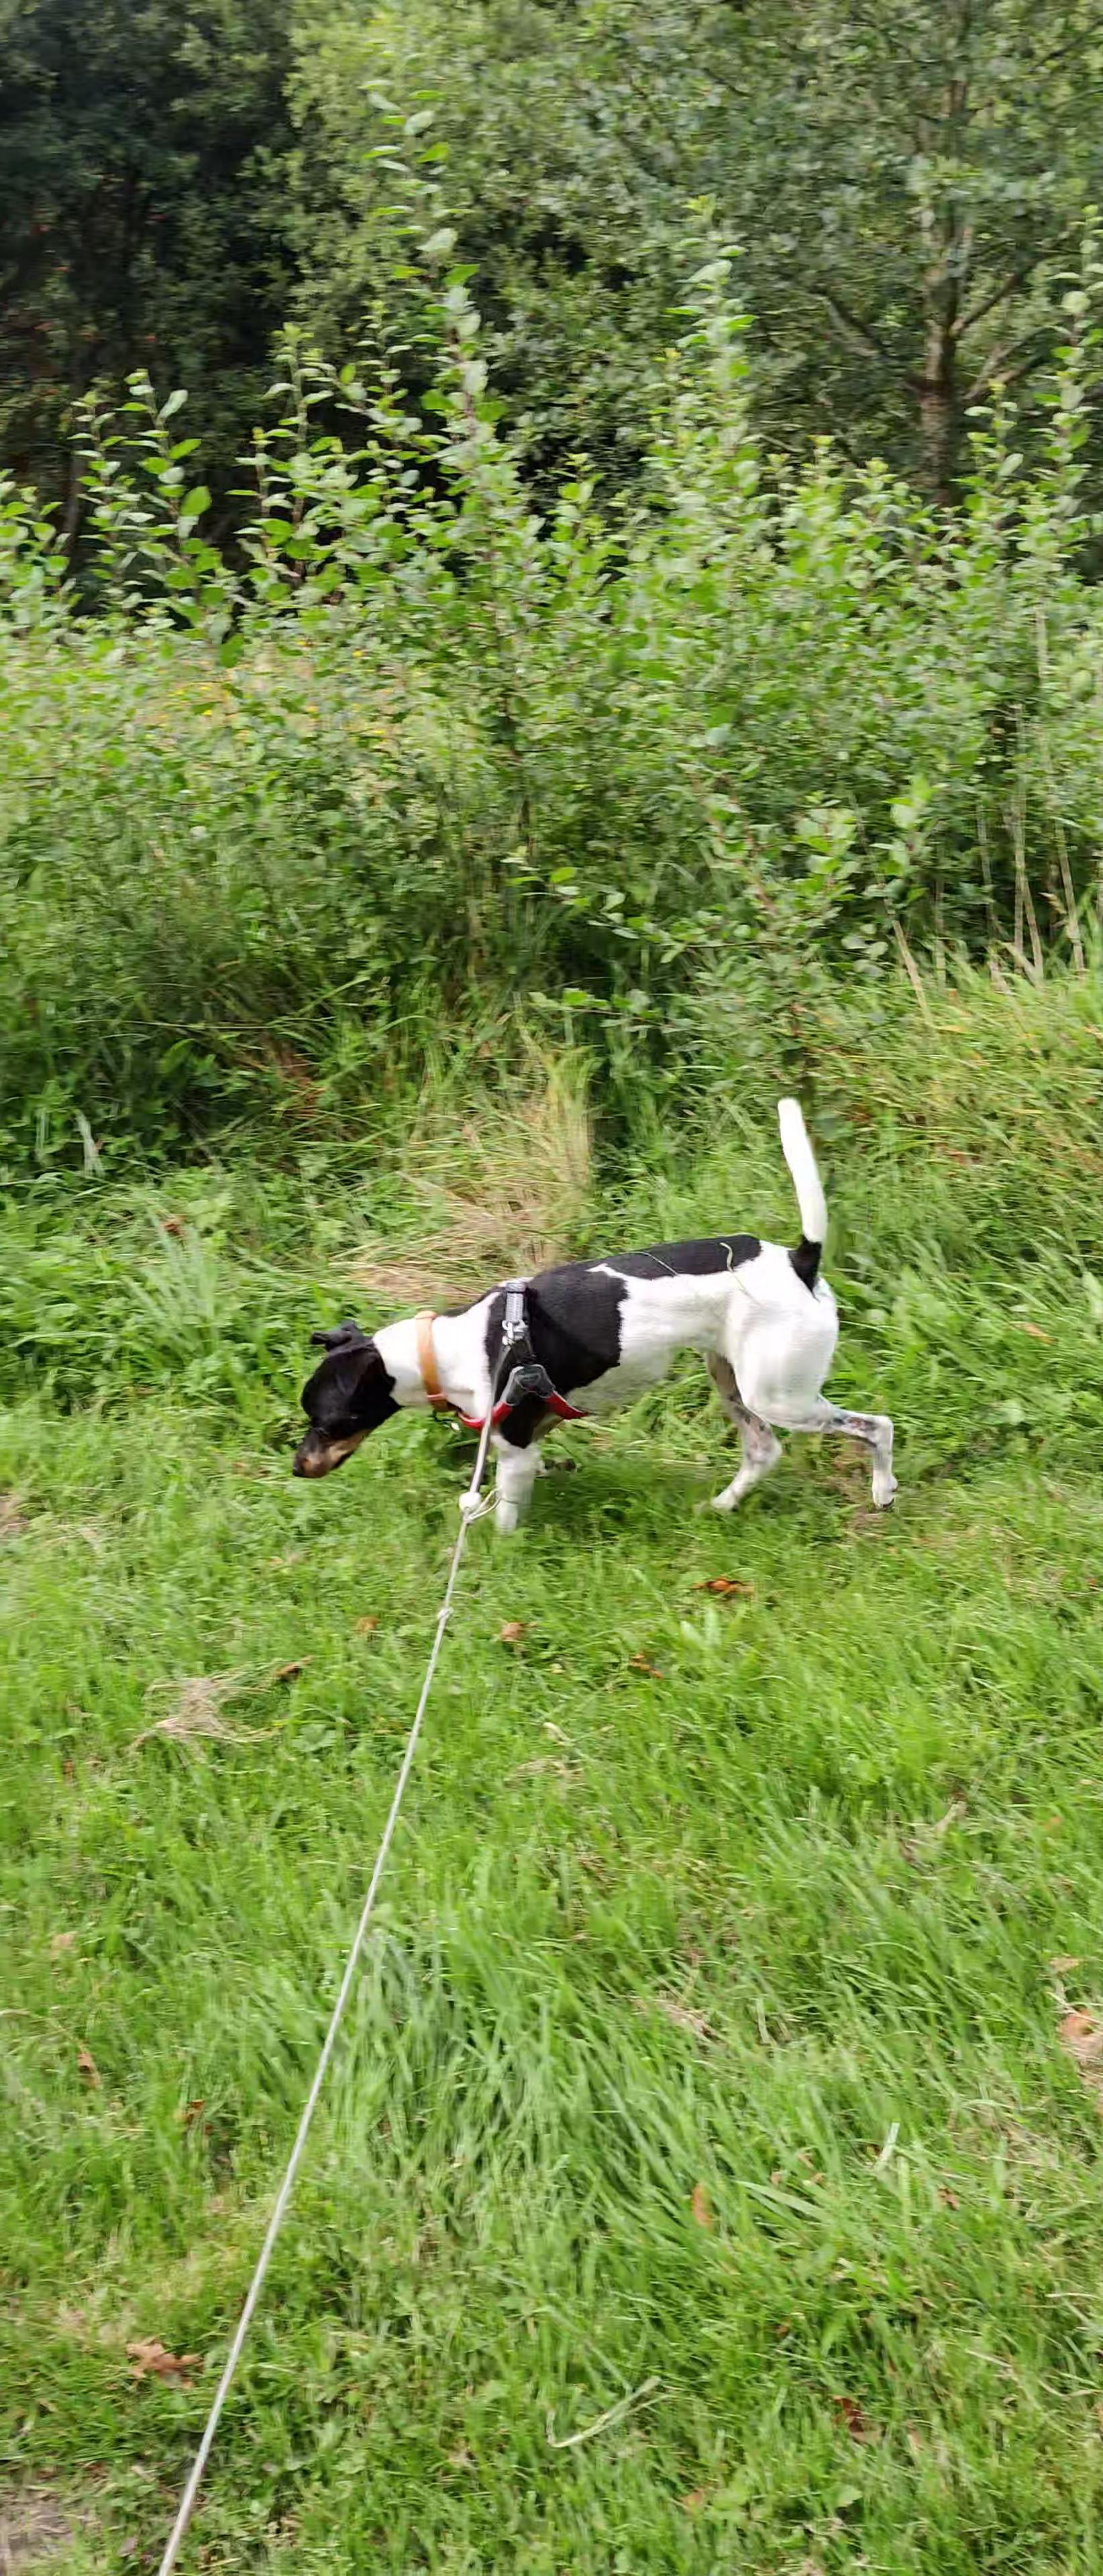Dog: (275, 1079, 912, 1551)
